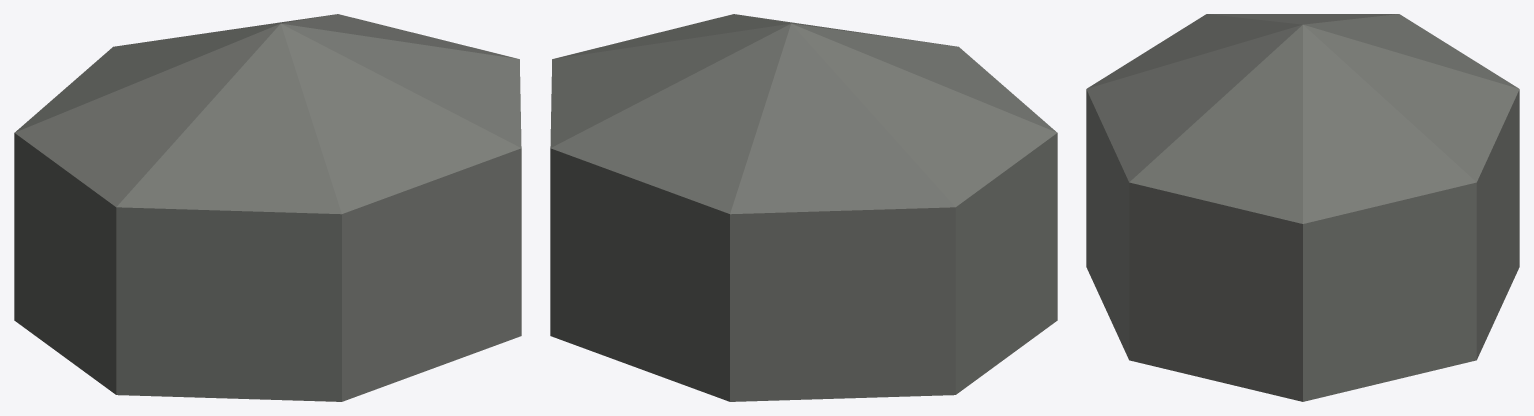
The model's file is rock_01.obj.
3 renders of one model, left to right at view 1: azimuth 30°, elevation 25°; view 2: azimuth 150°, elevation 25°; view 3: azimuth 270°, elevation 25°, orthographic. The views are drawn at different scales.
Bounding box in the file's own units: 1.07 × 0.845 × 0.933.
1 material, 1 textured.
